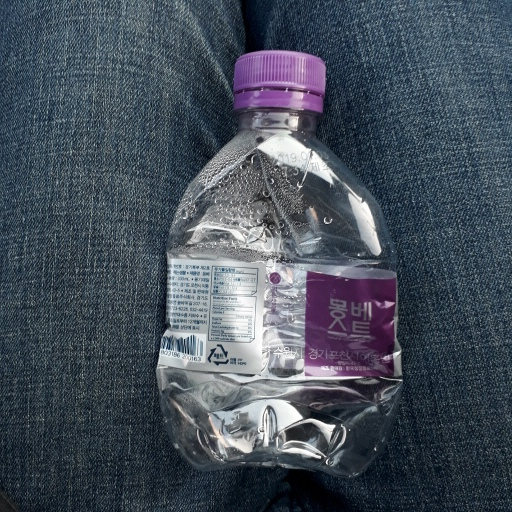Plastic_0: (155, 46, 405, 480)
